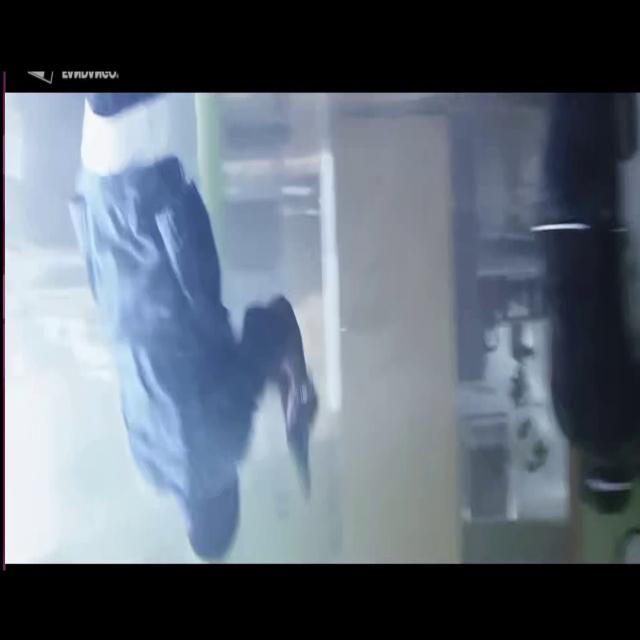weapons: (278, 360, 326, 520)
